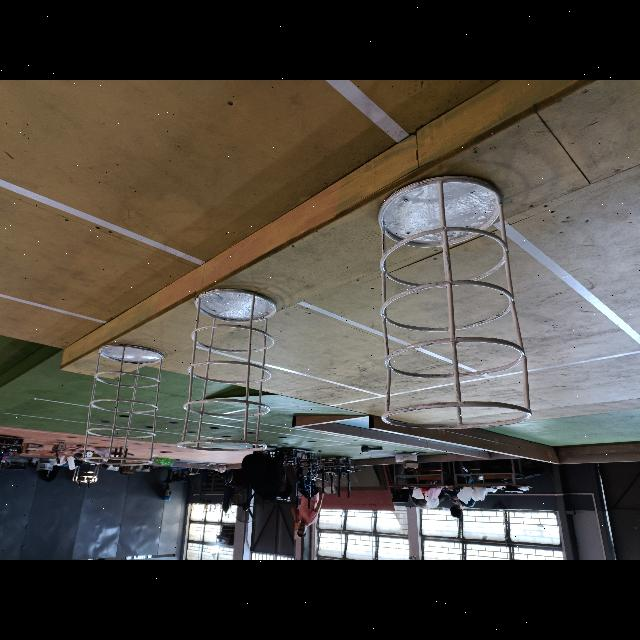S: (375, 173, 537, 432), (177, 284, 277, 455), (83, 343, 165, 467)
